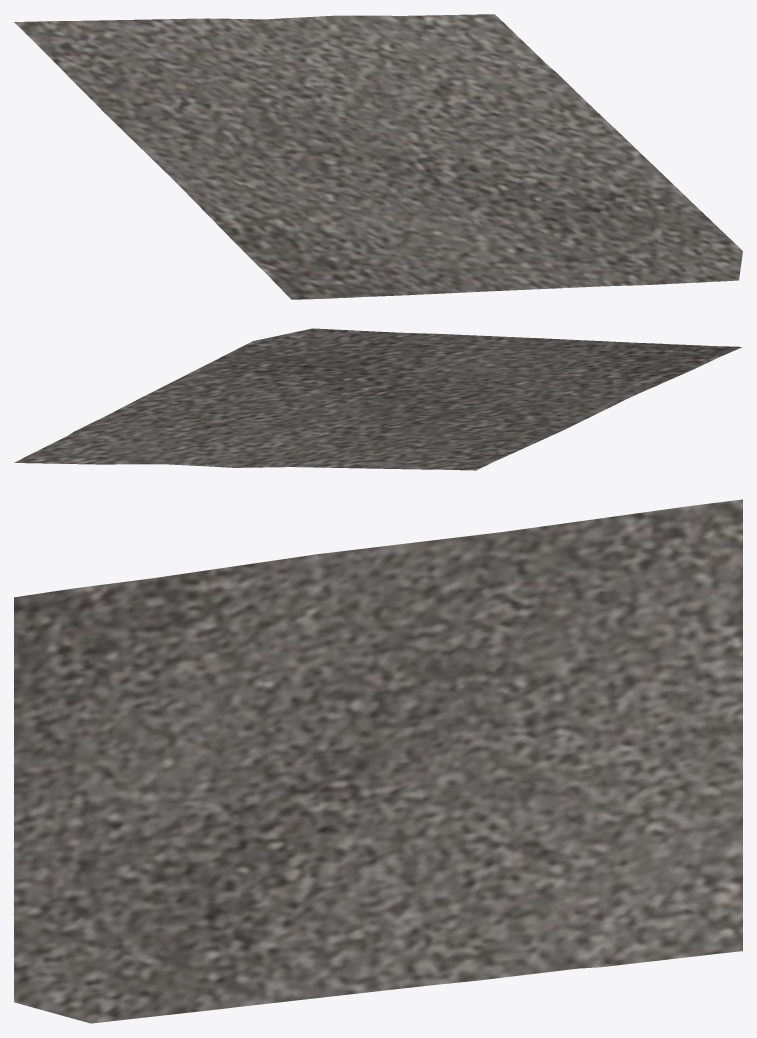
The picture shows the model from 3 angles, top to bottom: view 1: azimuth 30°, elevation 25°; view 2: azimuth 150°, elevation 25°; view 3: azimuth 270°, elevation 25°; orthographic projection. The views are drawn at different scales.
Size of the model in its own units: 0.8373 by 0.2738 by 0.8374.
Materials: 3 (3 with a texture image).
